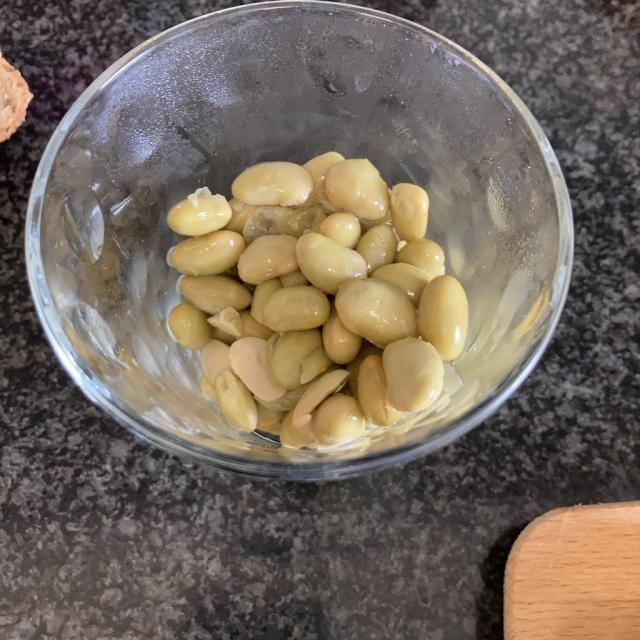beans: (170, 154, 466, 447)
